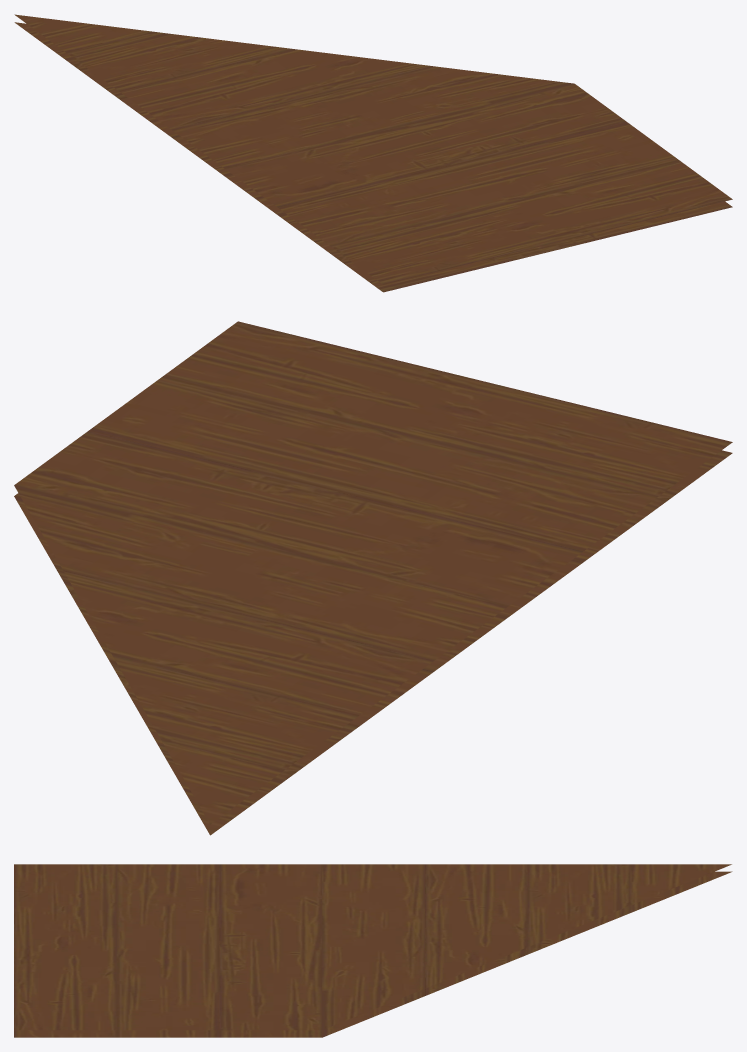
Rendered from Floor_WoodDark_OverhangCorner2.glb.
The picture shows the model from 3 angles, top to bottom: view 1: azimuth 30°, elevation 25°; view 2: azimuth 150°, elevation 25°; view 3: azimuth 270°, elevation 25°; orthographic projection. The views are drawn at different scales.
Parts seen in each view (by area): view 1: Floor_WoodDark_OverhangCorner2; view 2: Floor_WoodDark_OverhangCorner2; view 3: Floor_WoodDark_OverhangCorner2.
Boxes of the visible parts, x1,y1,x2,y2 form: Floor_WoodDark_OverhangCorner2: [14, 14, 732, 292]; Floor_WoodDark_OverhangCorner2: [14, 321, 732, 835]; Floor_WoodDark_OverhangCorner2: [14, 864, 732, 1037].
Size of the model in its own units: 0.9567 by 0.0201 by 1.75.
Materials: 1 (1 with a texture image).
